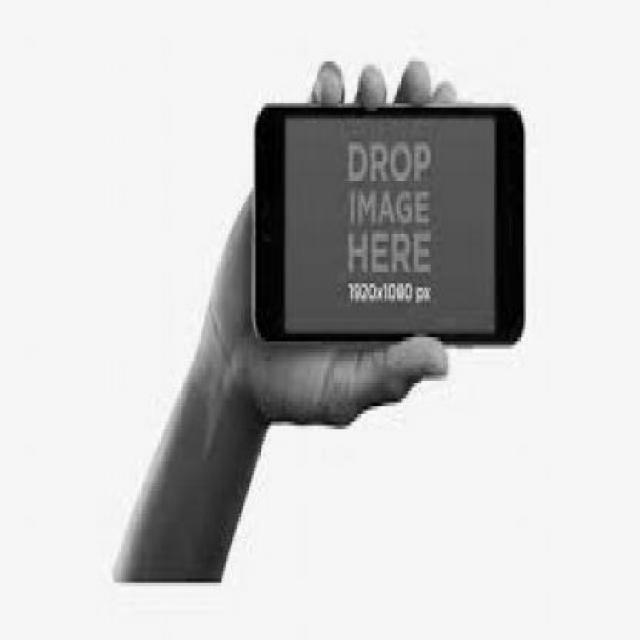fake: (253, 103, 524, 342)
